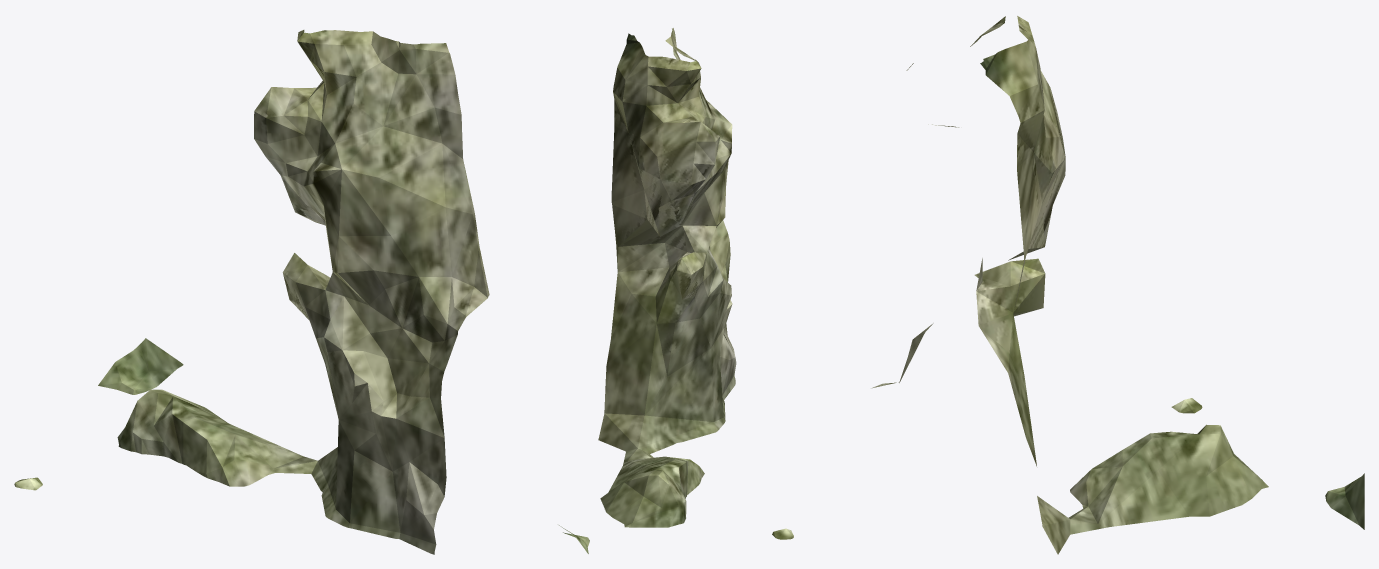
3 views of the same model, side by side, from view 1: azimuth 30°, elevation 25°; view 2: azimuth 150°, elevation 25°; view 3: azimuth 270°, elevation 25° (orthographic). The views are drawn at different scales.
Size of the model in its own units: 1.98 by 2.95 by 2.95.
2 materials, 2 textured.
